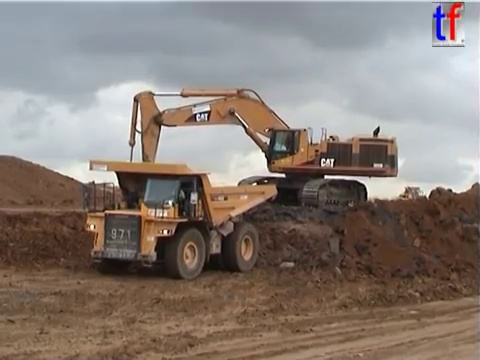excavator: (122, 85, 401, 221)
truck: (79, 157, 279, 282), (396, 186, 426, 205)
